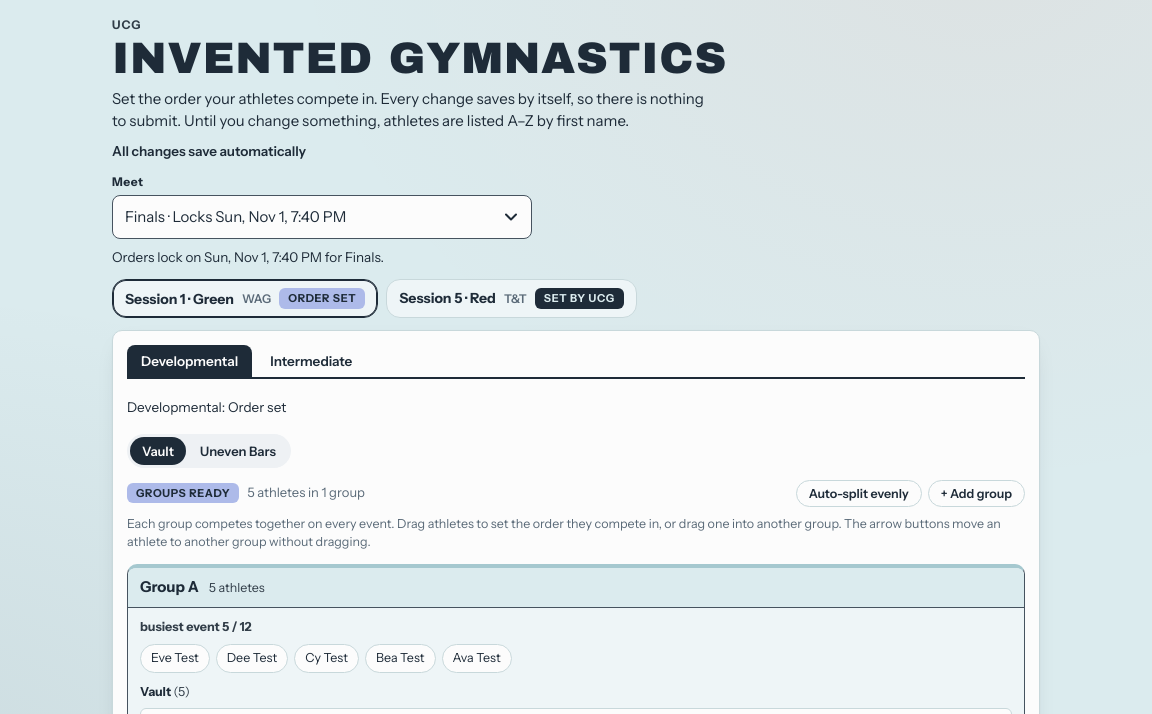
Test: meet switcher (one private link across meets) › switching shows the other meet: its own statuses and its own lock; Prelims is read-only
Step 1. Click the dropdown named "Meet" → (322, 217), box [112,195,532,239]
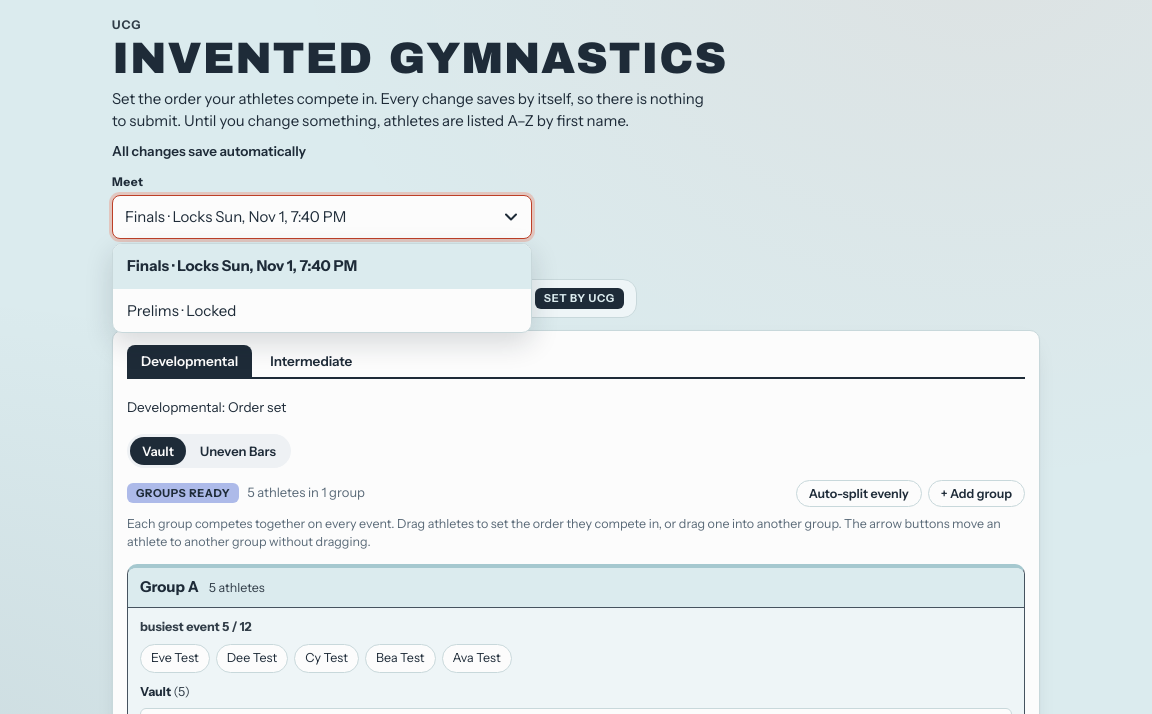
Step 2. Click the option "Prelims · Locked" → (182, 310), box [127,300,236,320]
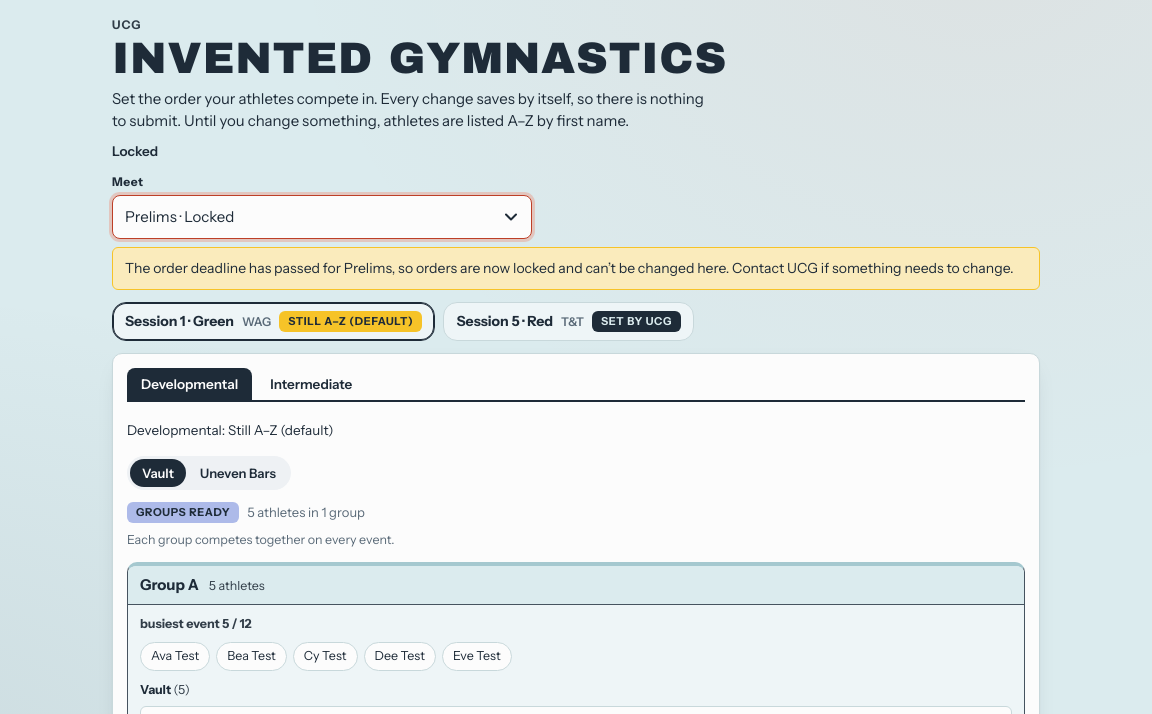
expect the button "Session 1 · Green WAG Still A–Z (default)" is shown: met, box [112,302,435,341]
expect the message with test id "club-locked" shows "The order deadline has passed for Prelims": met, box [112,247,1040,290]
expect the button "+ Add group" is gone: met
Step 3. Click the dropdown named "Meet" → (180, 217), box [112,195,532,239]
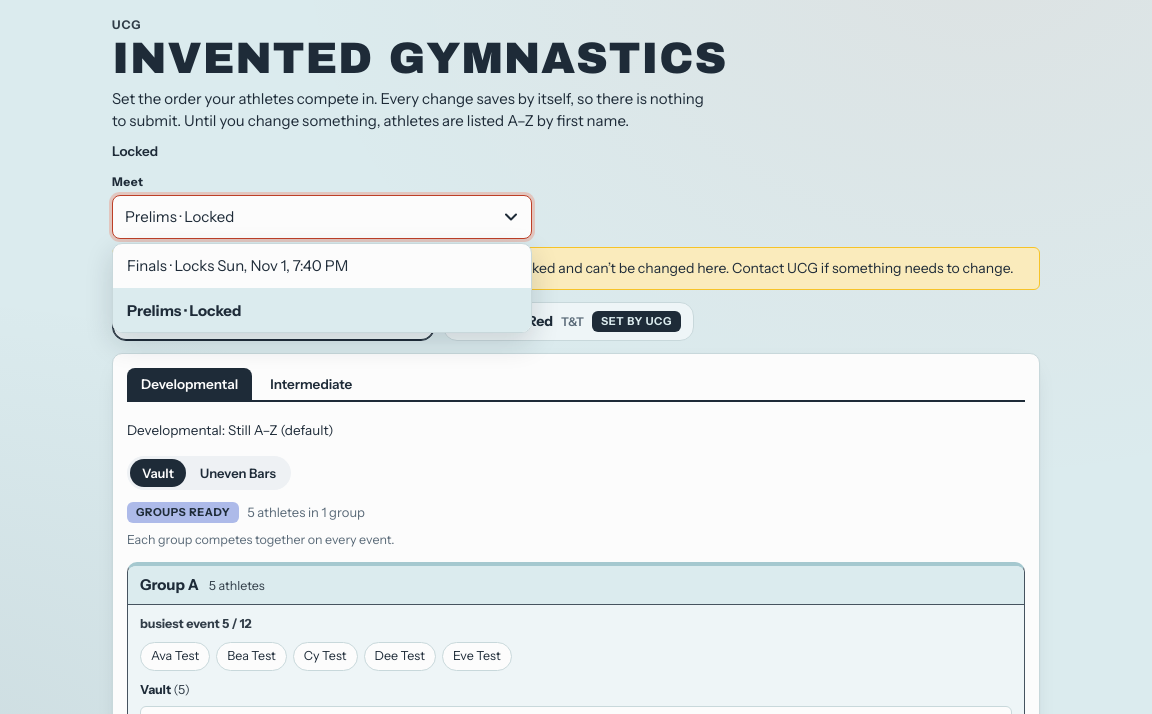
Step 4. Click the option "Finals · Locks Sun, Nov 1, 7:40 PM" → (322, 266), box [113,244,531,288]
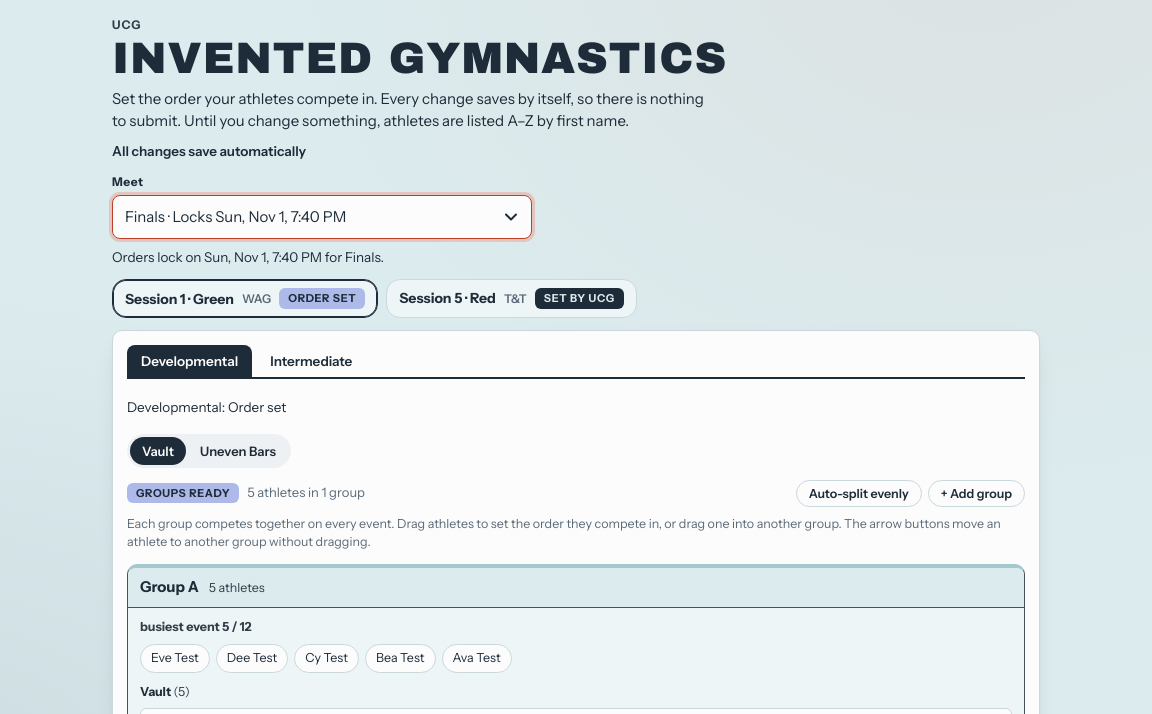
expect the message with test id "club-locked" is gone: met
expect the button "Session 1 · Green WAG Order set" is shown: met, box [112,279,378,318]
expect the button "+ Add group" is shown: met, box [928,480,1025,506]
